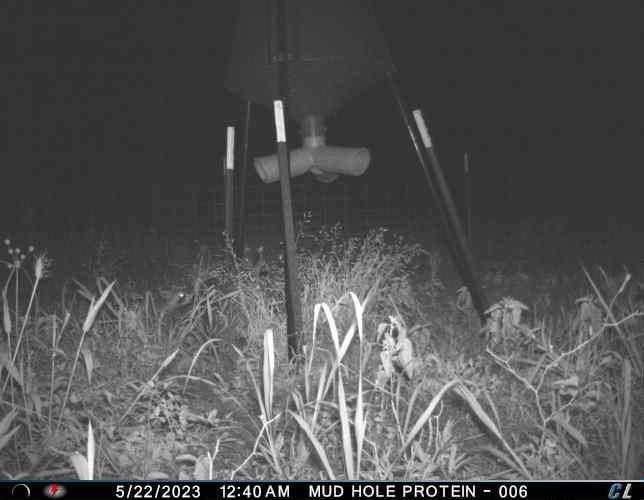Raccoon: (159, 284, 198, 323)
